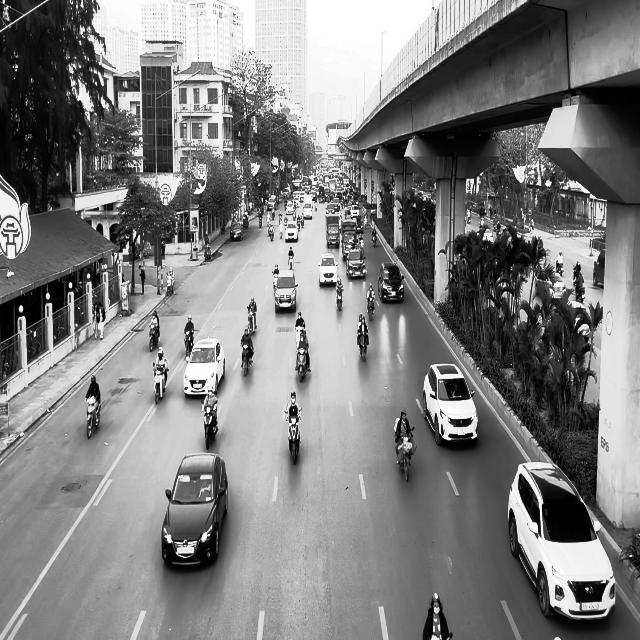car: (507, 460, 616, 622), (161, 452, 228, 567), (422, 362, 478, 446), (183, 337, 225, 397), (378, 261, 404, 303), (274, 270, 298, 312), (535, 270, 566, 302), (318, 252, 338, 286), (346, 249, 366, 279), (593, 248, 605, 288), (230, 222, 243, 240)
motorbike: (394, 426, 416, 482), (284, 406, 302, 464), (202, 403, 218, 450), (86, 394, 101, 438), (152, 362, 167, 404), (240, 340, 253, 376), (356, 327, 368, 361), (296, 347, 308, 381), (184, 329, 194, 362), (149, 321, 159, 352), (247, 306, 256, 334), (336, 286, 344, 311), (366, 297, 374, 320), (556, 258, 564, 276), (288, 253, 293, 270)
